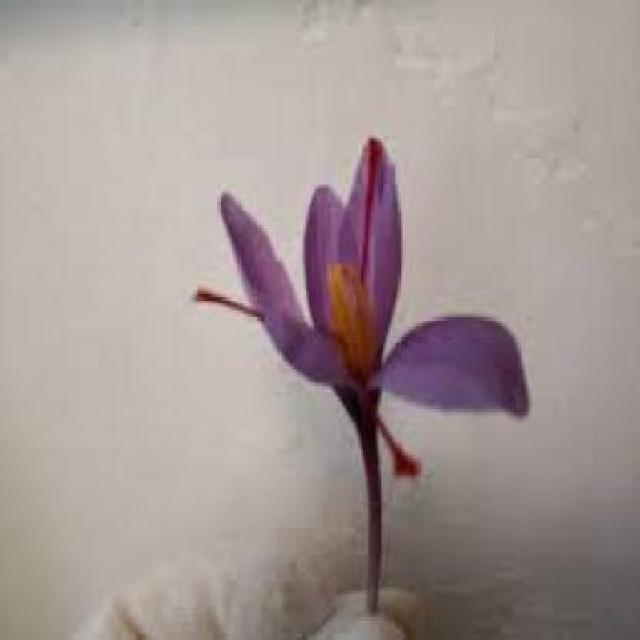saffron open: (225, 139, 528, 611)
